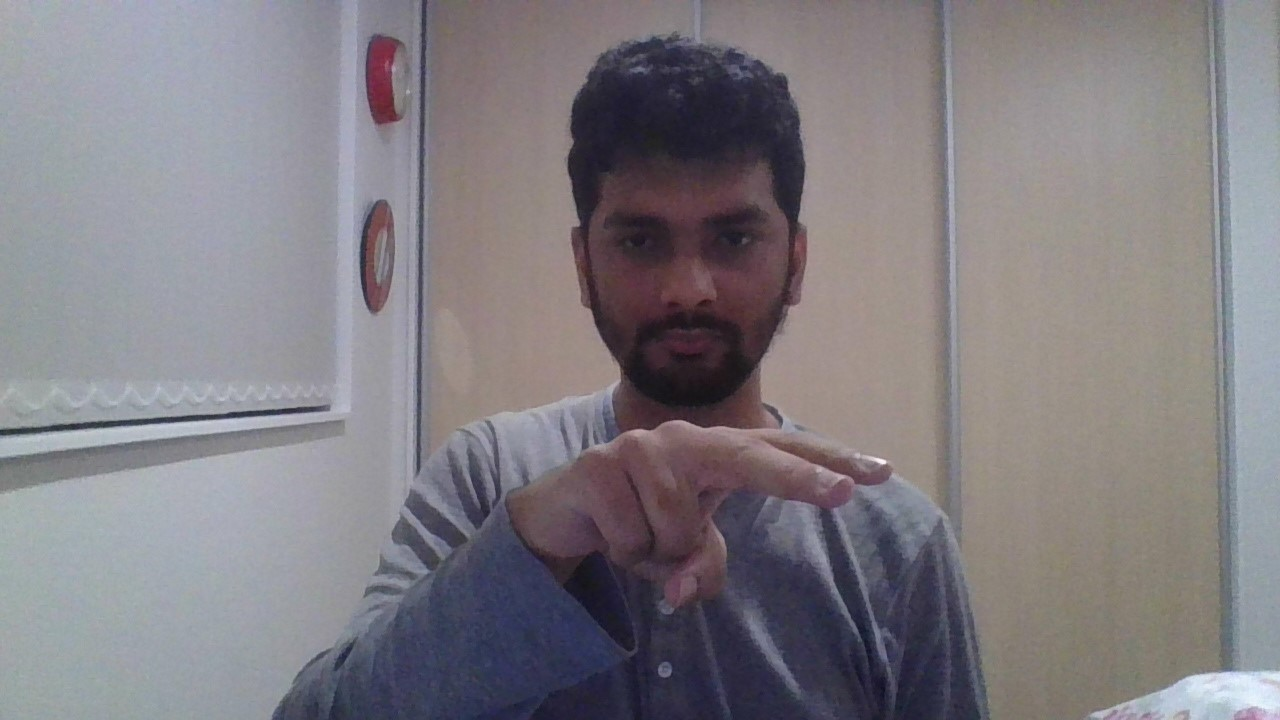look_around: (515, 420, 893, 609)
